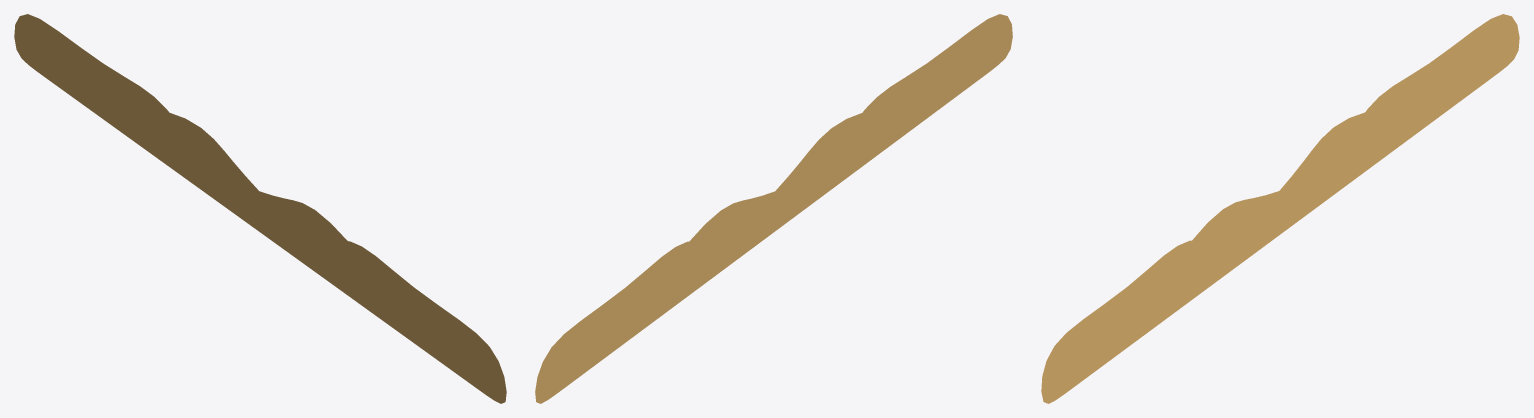
The model's file is decierto 5.fbx.
The picture shows the model from 3 angles, left to right: view 1: azimuth 30°, elevation 25°; view 2: azimuth 150°, elevation 25°; view 3: azimuth 330°, elevation 25°; orthographic projection.
Visible parts, largest first — view 1: Decierto 5; view 2: Decierto 5; view 3: Decierto 5.
Boxes of the visible parts, x1,y1,x2,y2 form: Decierto 5: (14,14,506,403); Decierto 5: (535,14,1012,403); Decierto 5: (1041,14,1519,403).
Bounding box in the file's own units: 21.49 × 185 × 2483.
